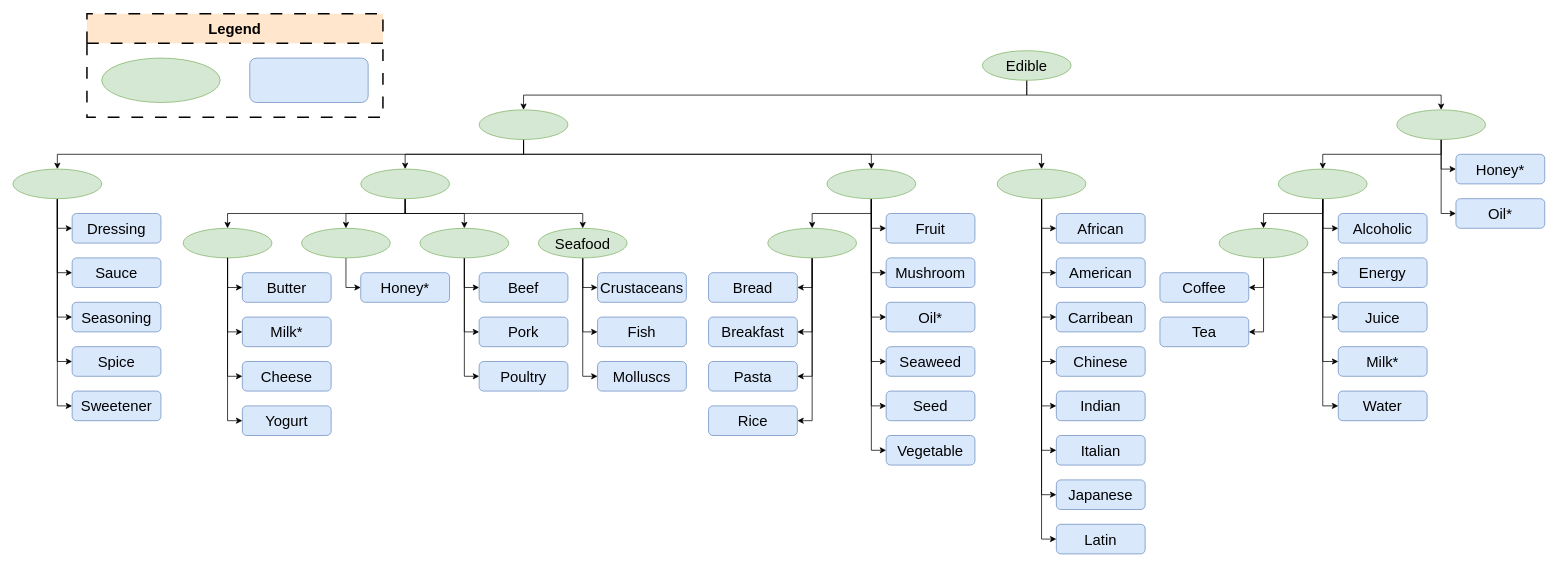
Some shapes in this 1558 by 567 pixel diagram are drawn without their labels. The centre of each missing label's shape, as x and y in pixels:
Additive: point 57,183
Animal: point 405,183
Cereal: point 812,243
Dairy: point 227,243
Drink: point 1322,183
Food: point 523,124
Infusion: point 1263,243
Insect: point 345,243
Leaf class: point 308,79
Liquid: point 1441,124
Meat: point 464,243
Parent class: point 160,79
Recipe: point 1041,183
Vegetal: point 871,183
